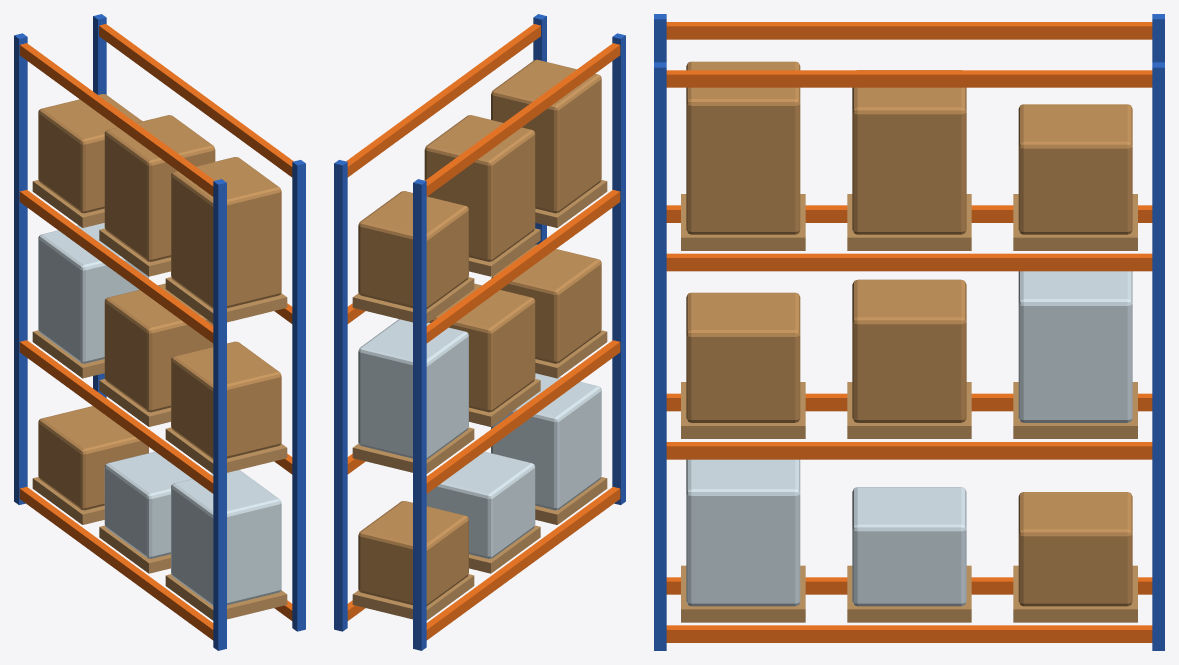
The model's file is racking.glb.
3 renders of one model, left to right at view 1: azimuth 30°, elevation 25°; view 2: azimuth 150°, elevation 25°; view 3: azimuth 270°, elevation 25°, orthographic. The views are drawn at different scales.
Visible parts, largest first — view 1: racking; view 2: racking; view 3: racking.
Boxes of the visible parts, box(x1,y1,x2,y2) form: racking: box(14, 14, 305, 650); racking: box(334, 14, 625, 650); racking: box(654, 14, 1164, 650).
Size of the model in its own units: 1.22 by 6.2 by 4.92.
